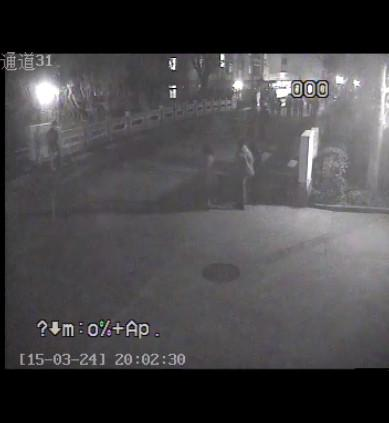person: (192, 144, 219, 210), (234, 139, 256, 212), (44, 120, 62, 173), (245, 106, 258, 142), (258, 108, 269, 144)
